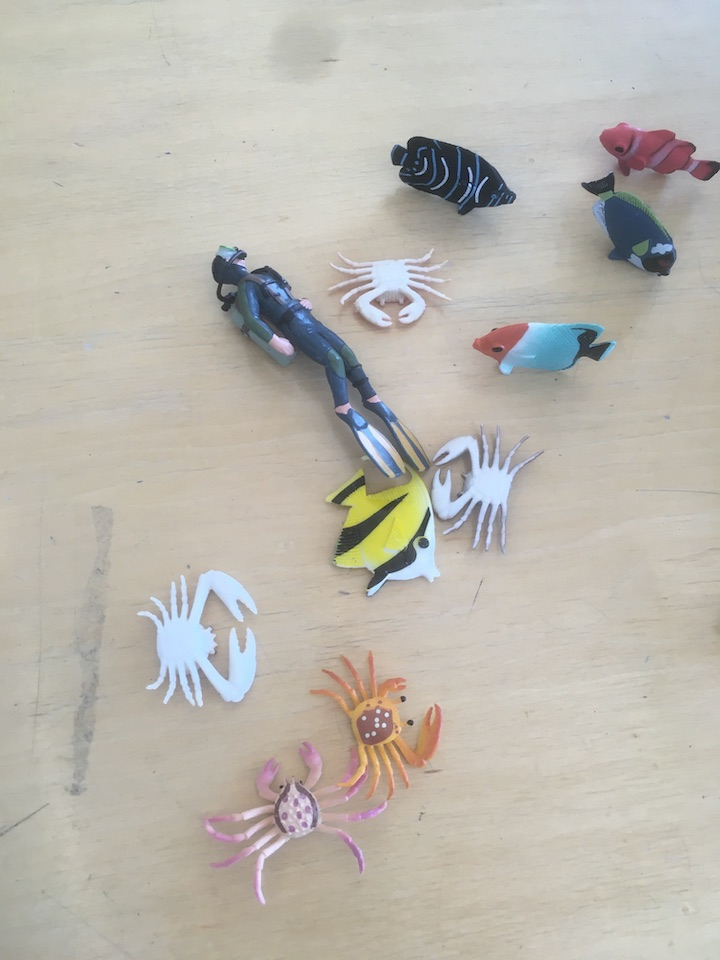crab: (190, 737, 395, 909), (303, 650, 449, 806), (135, 567, 264, 711), (421, 419, 552, 559), (328, 234, 454, 329)
danger: (323, 450, 445, 599)
diver: (206, 240, 436, 484)
fish: (383, 130, 522, 217), (580, 170, 681, 281), (467, 313, 617, 381), (596, 117, 720, 190)
